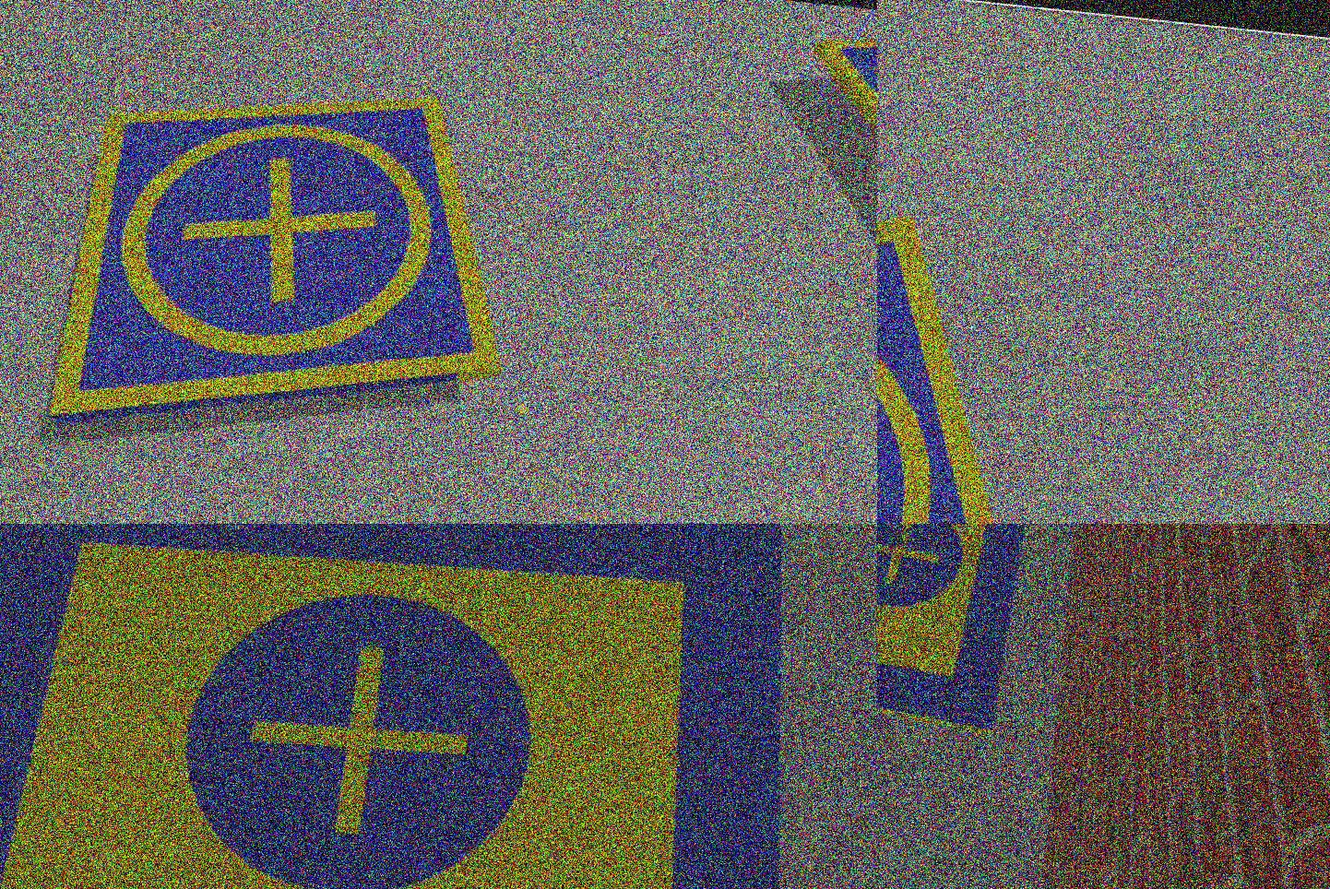large_base: (1, 524, 841, 889), (877, 524, 1035, 742)
small_base: (45, 59, 532, 471), (877, 168, 1085, 524), (792, 6, 877, 267)
